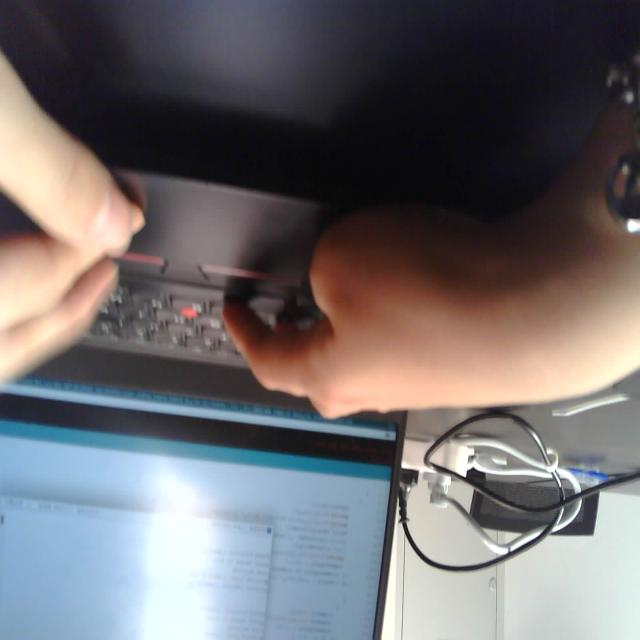keyboard-with-hands: (0, 146, 418, 404)
